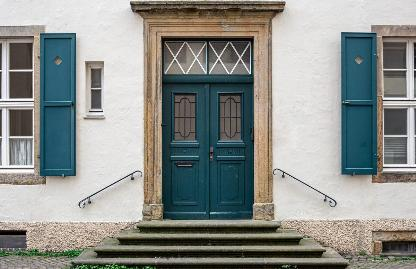door: (134, 0, 275, 224)
stair: (72, 219, 355, 269)
